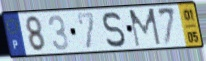3: (48, 14, 69, 51)
7: (157, 6, 177, 48), (76, 11, 97, 50)
8: (24, 15, 47, 53)
M: (128, 7, 163, 50)
S: (102, 10, 127, 49)
